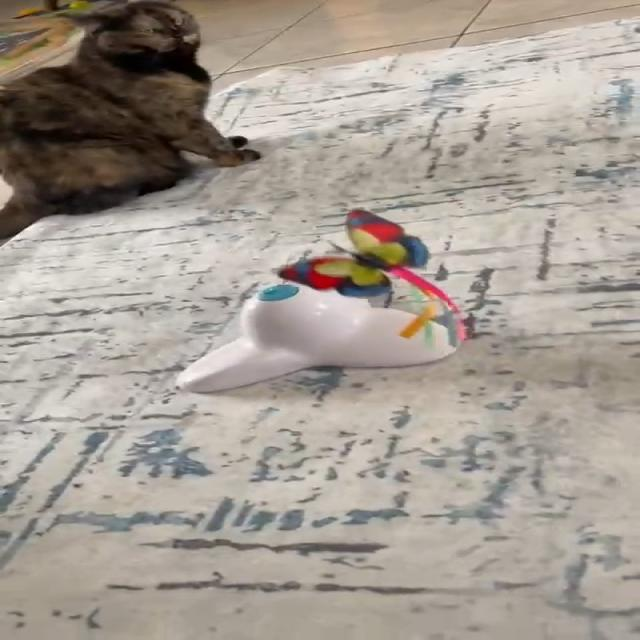authorized: (0, 0, 261, 242)
